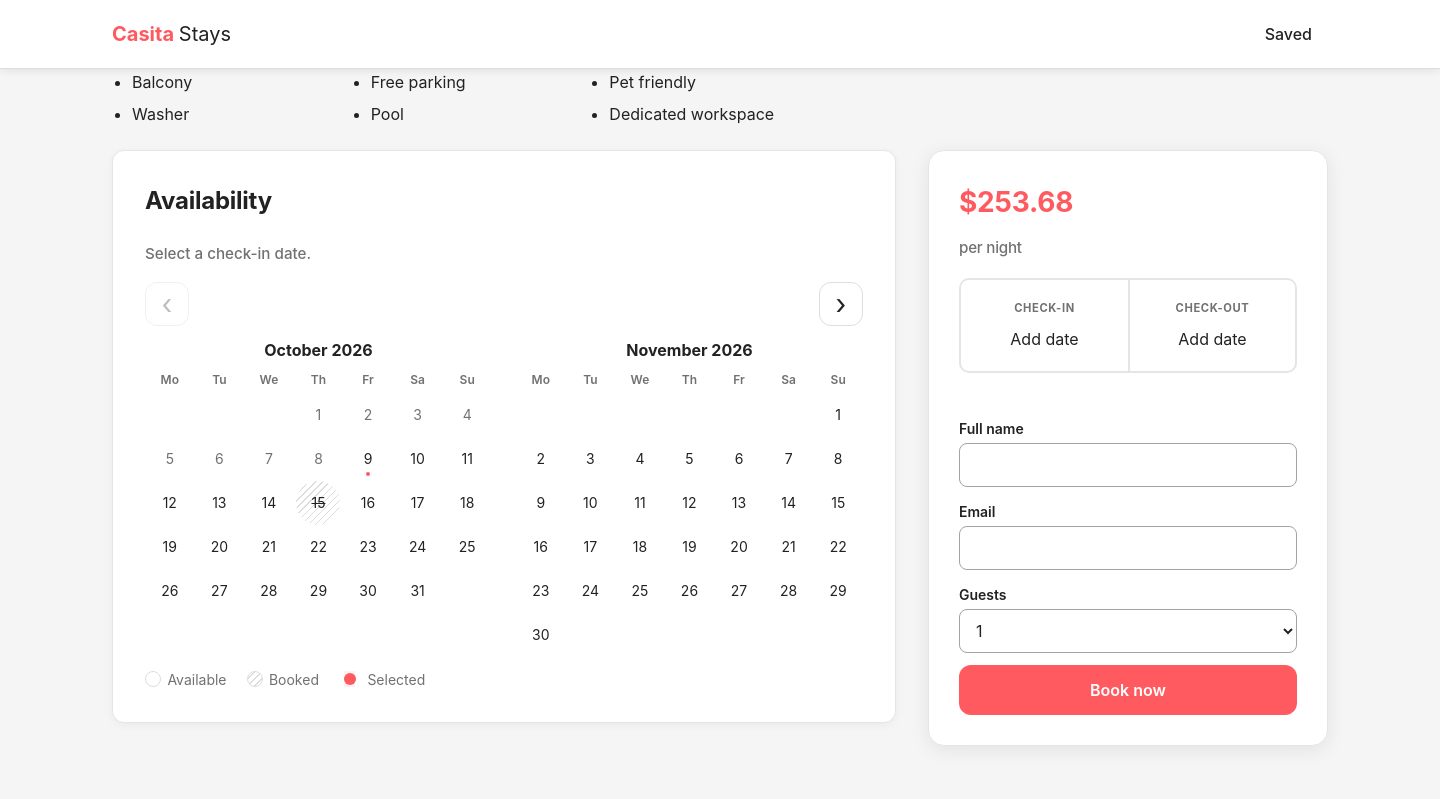
Scenario: booking flow › explains why a range that crosses a booked night cannot be chosen
(page scrolled)
Expected: the table named "October 2026" is shown, [145,370,492,613]
Click the button "13" below "October 2026": (219, 503) [197,481,241,525]
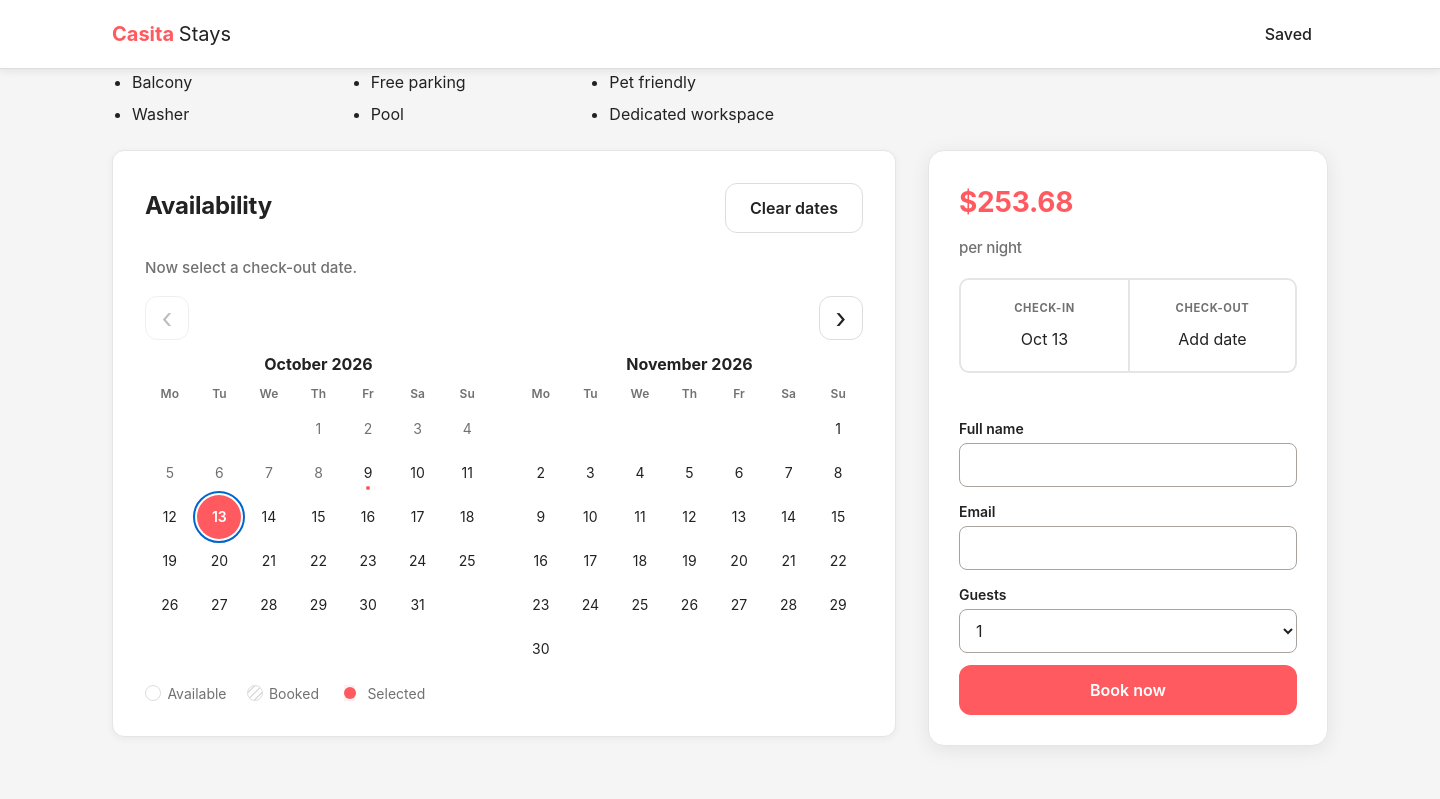
Click the button "17" below "October 2026": (418, 517) [396,495,440,539]
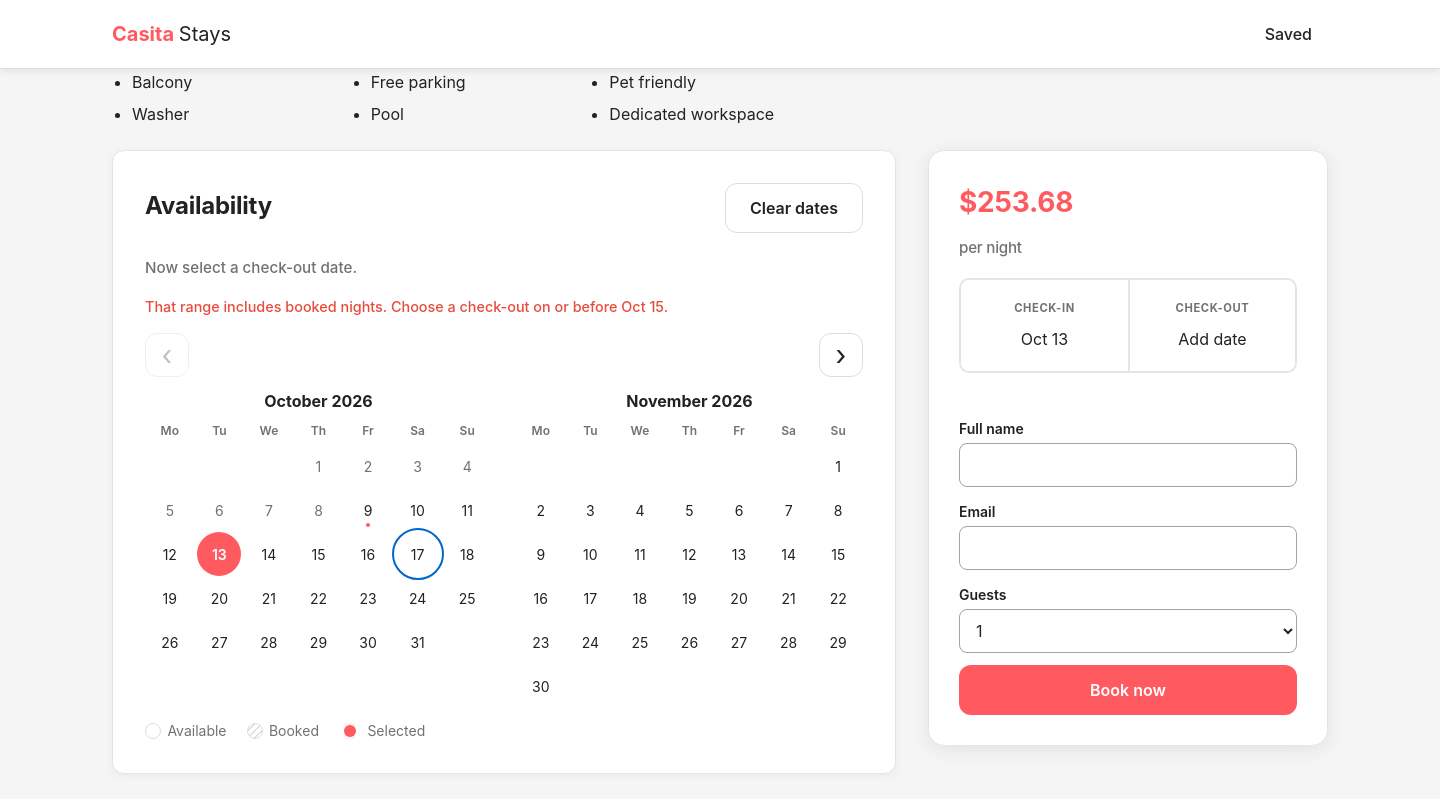
Expected: the text "That range includes booked nights. Choose a check-out on or before Oct 15." is shown, [145,298,668,315]
Note: A valid check-out clears the message.
Click the button "14" below "October 2026": (269, 554) [247,532,291,576]
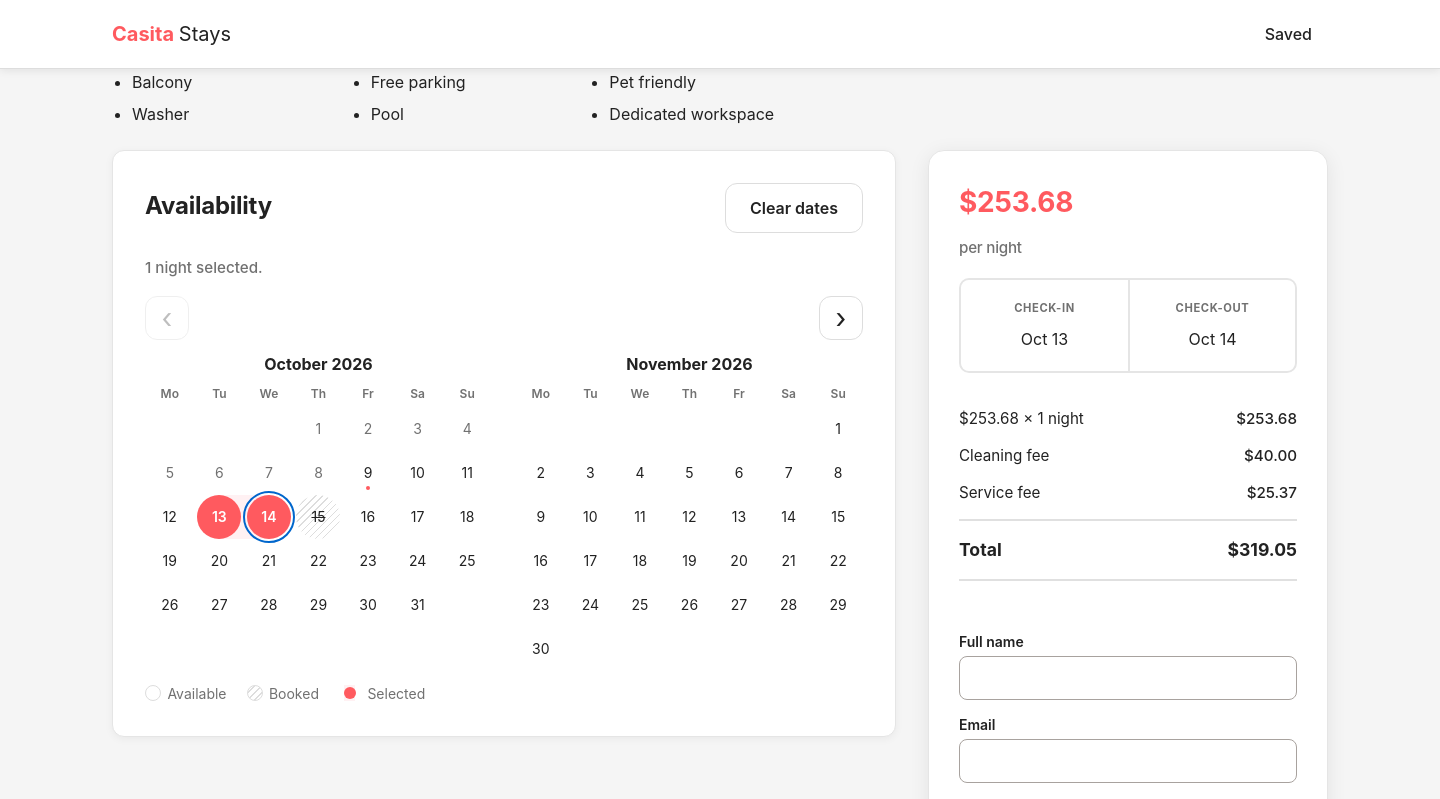
Expected: the text "That range includes booked nights" is gone
